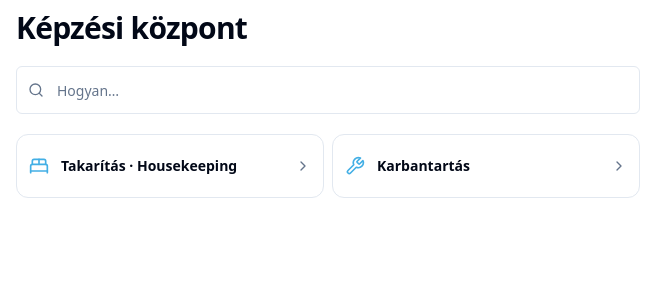
Test: visual training topics › opens a module or finds a standalone topic directly from localized search
Later steps or results of the test are not shown.
Check: the text "Szobák automatikus kiosztása" is not shown
Step 1. Click the button "Takarítás · Housekeeping" → (170, 166), box [16,134,324,198]
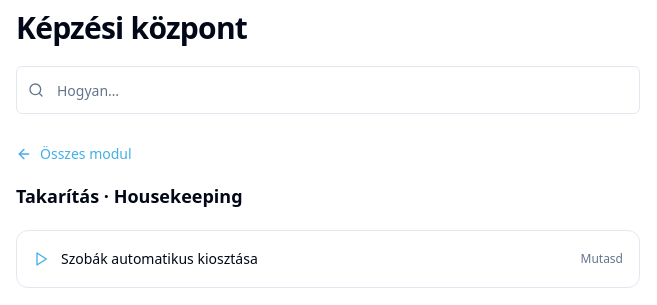
Check: the text "Szobák automatikus kiosztása" is shown, box [61,249,258,268]
